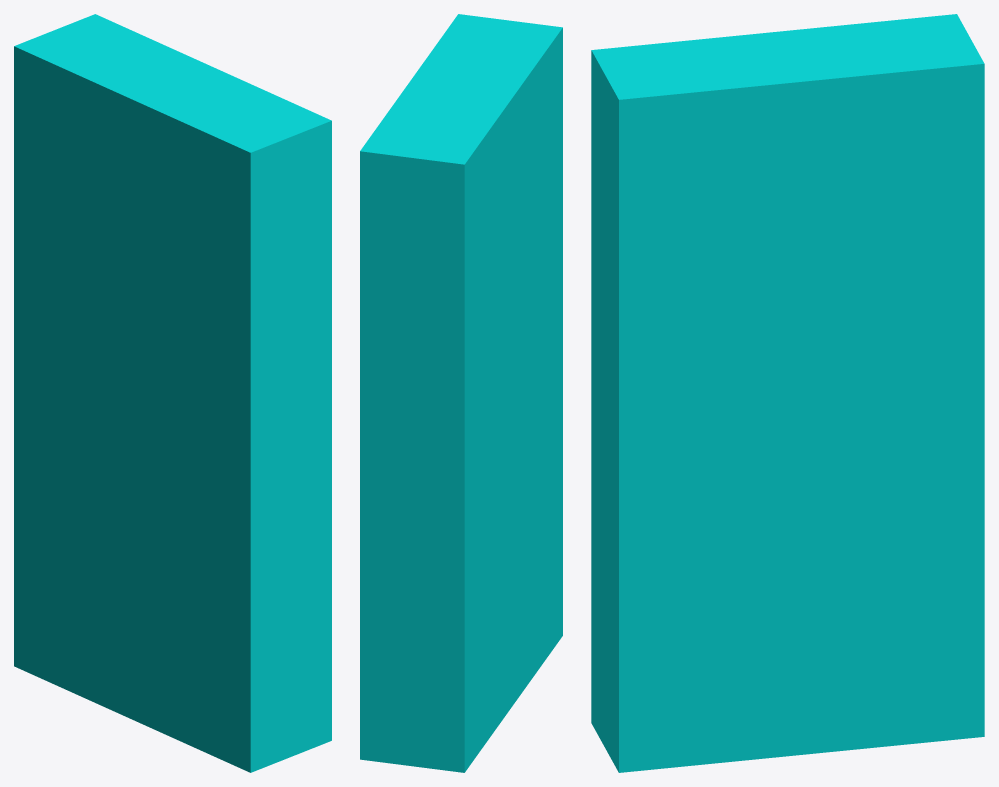
The model's file is Break Wall SM.fbx.
3 views of the same model, side by side, from view 1: azimuth 30°, elevation 25°; view 2: azimuth 150°, elevation 25°; view 3: azimuth 270°, elevation 25° (orthographic). The views are drawn at different scales.
Visible parts, largest first — view 1: pasted__pCube44; view 2: pasted__pCube44; view 3: pasted__pCube44.
Part boxes in pixels (x1,y1,x2,y2): pasted__pCube44: (14,14,331,772); pasted__pCube44: (360,14,562,772); pasted__pCube44: (591,14,984,772).
Bounding box in the file's own units: 0.5414 × 1.98 × 1.05.
